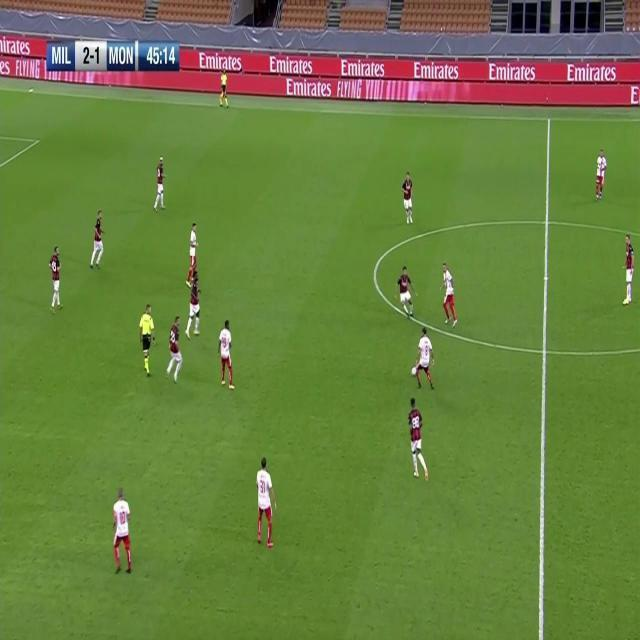ball: (411, 366, 418, 376)
player: (111, 485, 134, 575), (255, 455, 277, 549), (407, 398, 430, 483), (412, 325, 437, 391), (217, 317, 235, 391), (165, 316, 184, 386), (395, 264, 418, 320), (440, 260, 458, 328), (185, 269, 202, 341), (48, 245, 64, 317), (89, 207, 105, 272), (622, 232, 636, 306), (152, 154, 167, 214), (593, 147, 607, 201), (402, 169, 415, 227), (186, 221, 199, 273)
referee: (139, 302, 157, 376), (219, 65, 230, 111)
